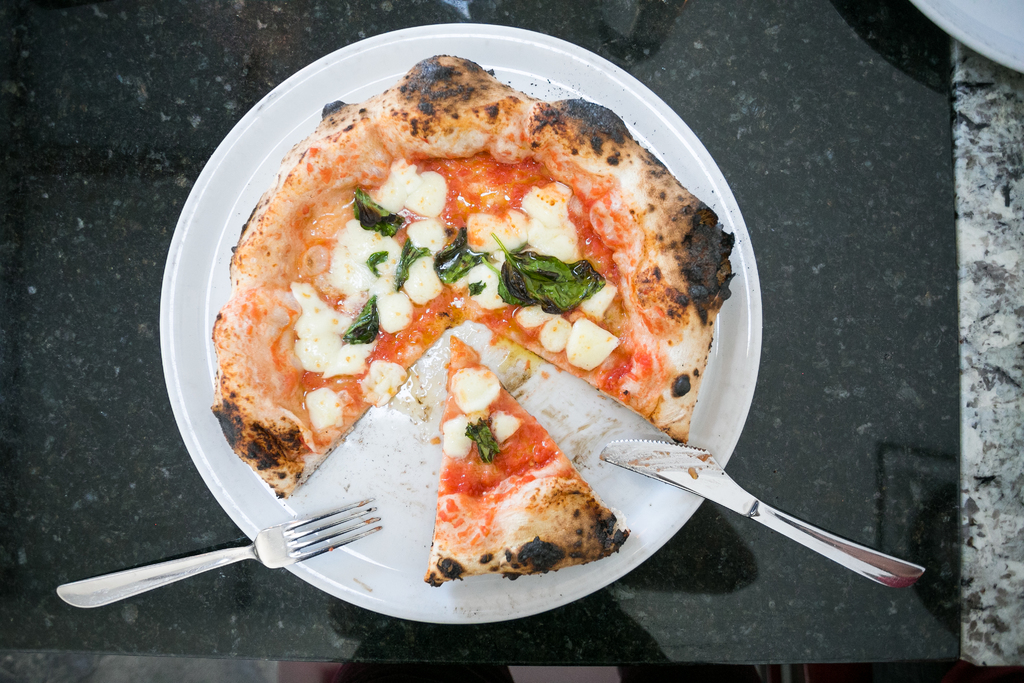Pizza: (211, 72, 713, 511), (423, 331, 629, 580)
